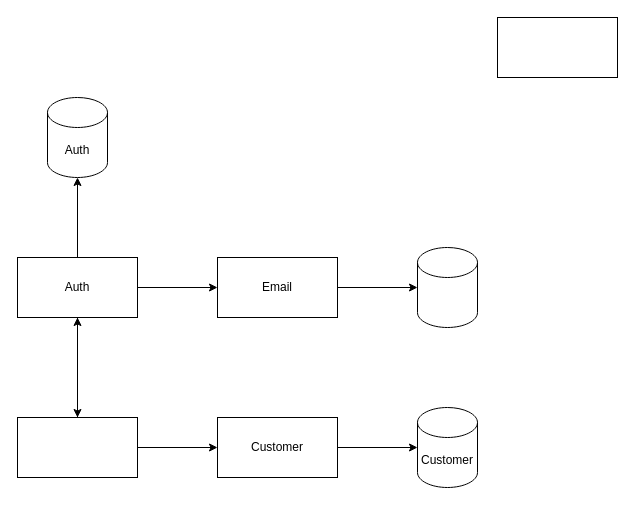
This 635x505 diagram has some shape labels left out. Here are the shapes that lost their labels. From the top down, the centre of each, then its label:
the point at 557,47: Euruka
the point at 447,287: Mail
the point at 77,447: GateWay
